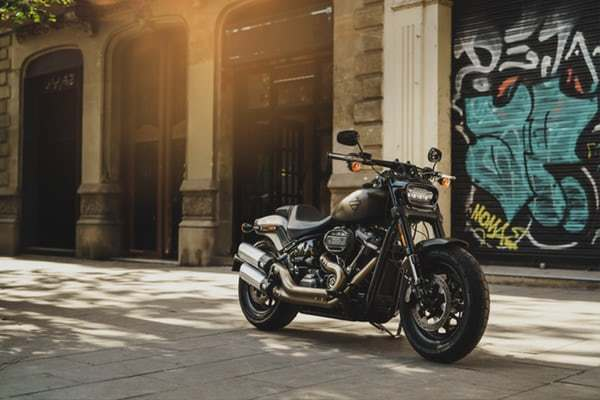19_label: (220, 87, 515, 366)
